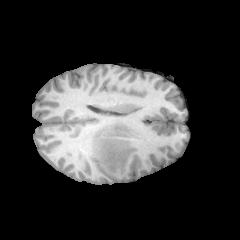glioma: (88, 123, 136, 173)
